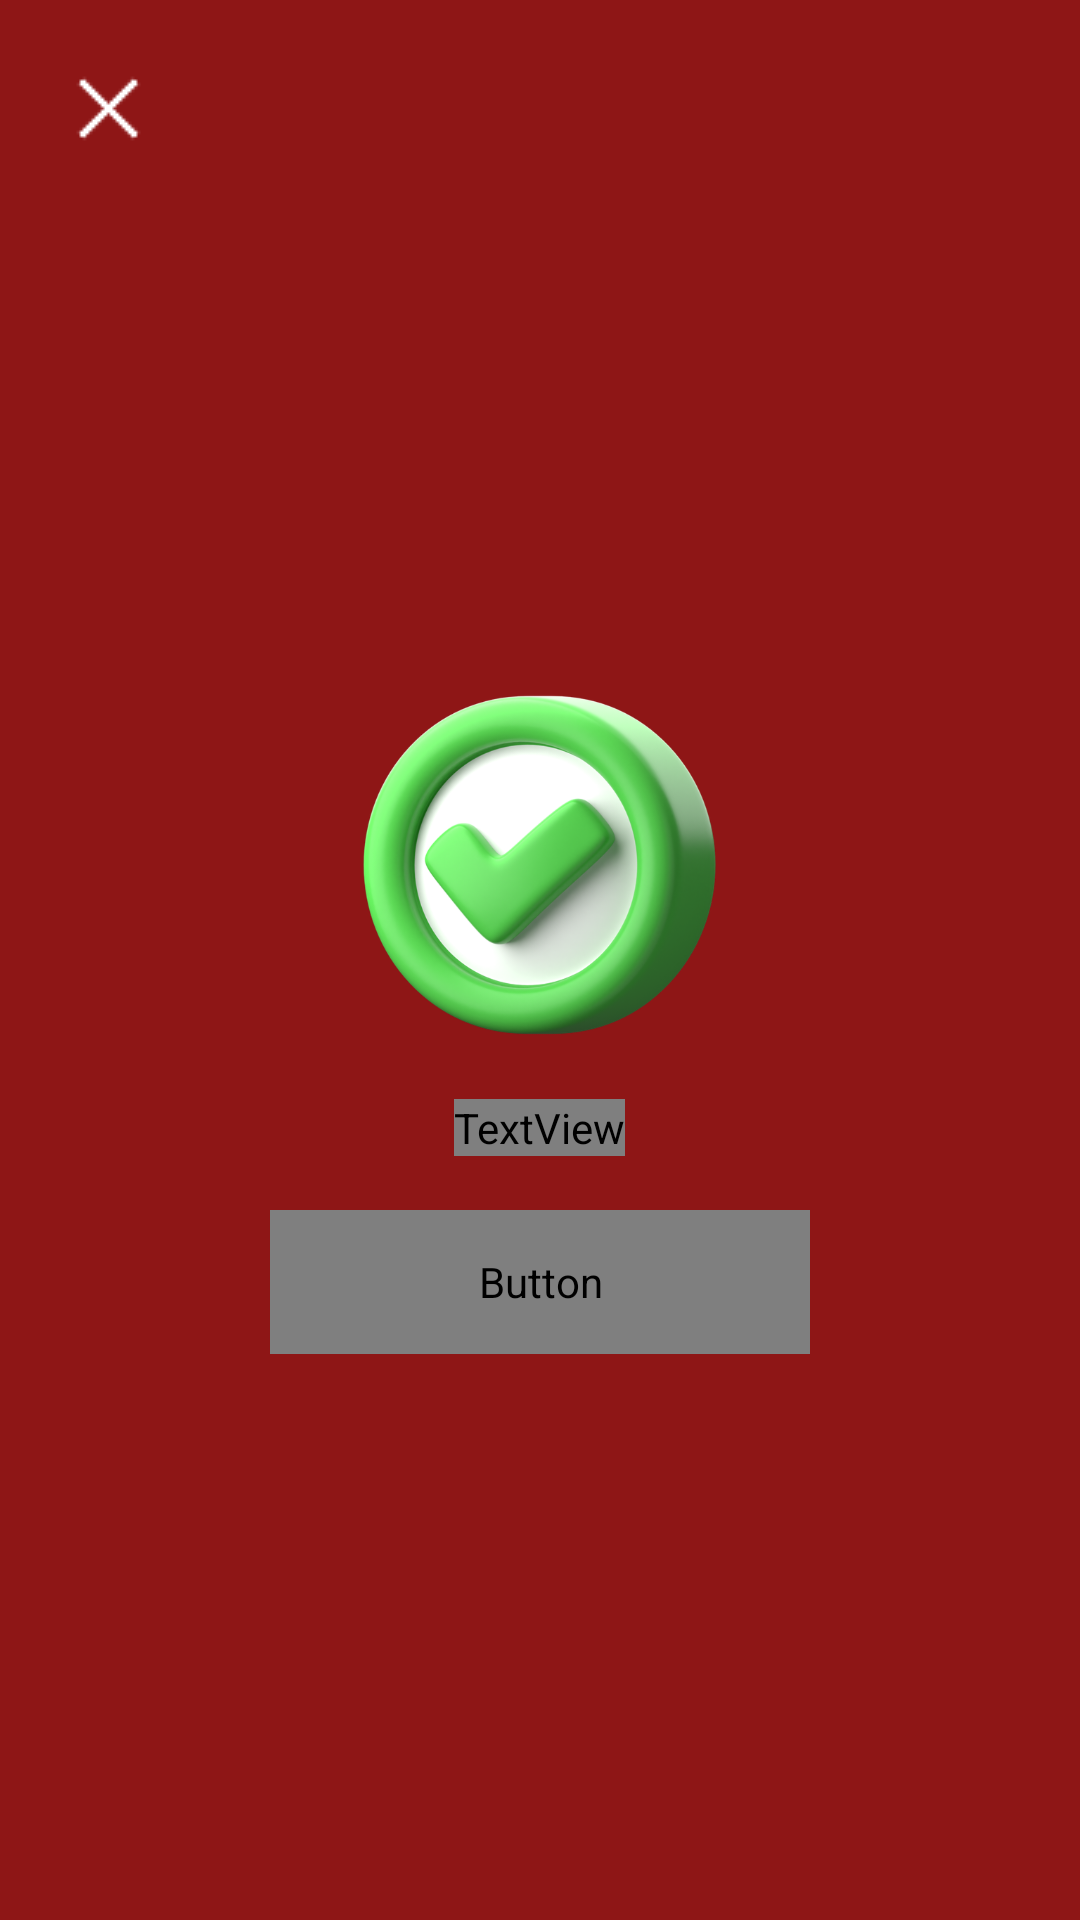

Locate icon controls on the screen. Image size 1080 x 1920, boxes as [x1=x1, y1=y1, x2=x2, y2=y2].
Close: [x1=78, y1=78, x2=139, y2=139]
